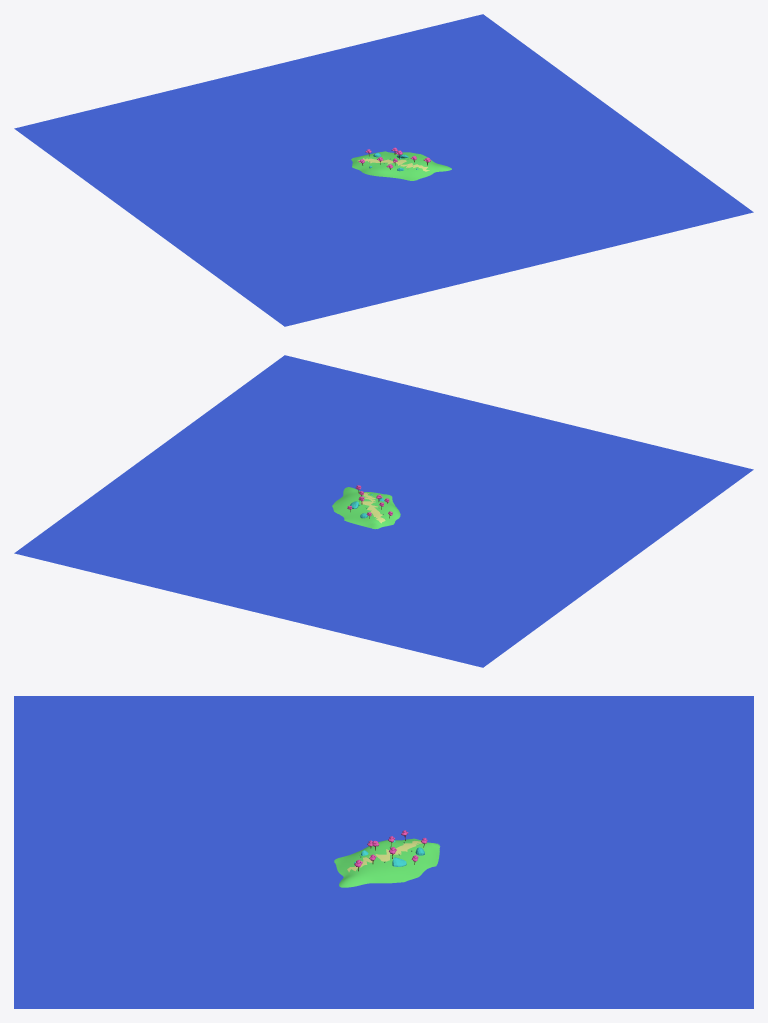
The model's file is pink_tree_island_blockout (1).glb.
The picture shows the model from 3 angles, top to bottom: view 1: azimuth 30°, elevation 25°; view 2: azimuth 150°, elevation 25°; view 3: azimuth 270°, elevation 25°; orthographic projection. The views are drawn at different scales.
Parts seen in each view (by area): view 1: Grass1.004, Plane.001; view 2: Grass1.004, Plane.001; view 3: Grass1.004, Plane.001.
Part boxes in pixels (<box>): Grass1.004: <box>14,14,753,326</box>; Plane.001: <box>351,151,451,180</box>; Grass1.004: <box>14,355,753,667</box>; Plane.001: <box>332,487,400,529</box>; Grass1.004: <box>14,696,753,1008</box>; Plane.001: <box>334,838,440,887</box>.
Bounding box in the file's own units: 1007 × 113 × 1007.
